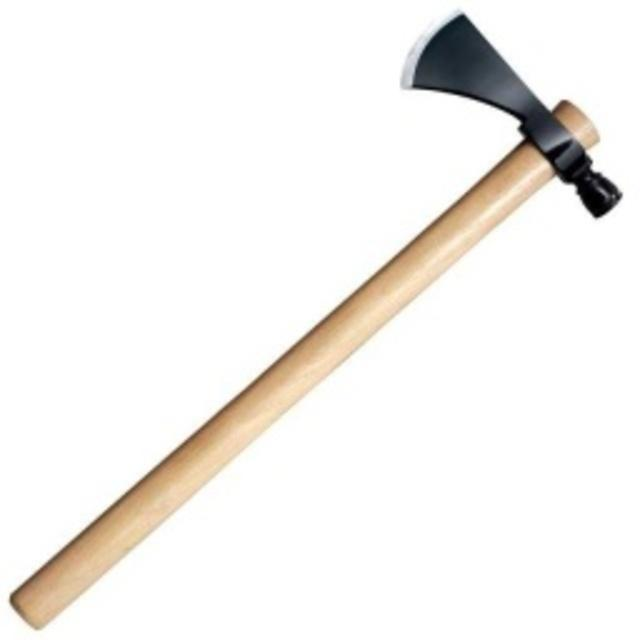ax: (9, 4, 626, 630)
